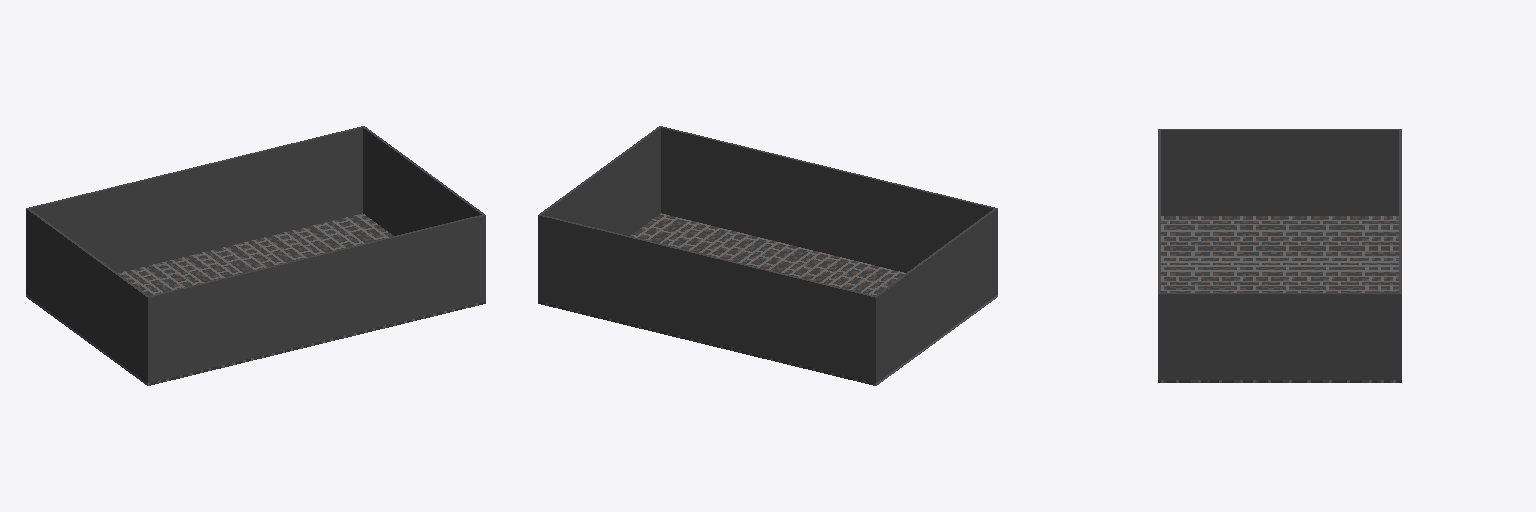
3 renders of one model, left to right at view 1: azimuth 30°, elevation 25°; view 2: azimuth 150°, elevation 25°; view 3: azimuth 270°, elevation 25°, orthographic.
Parts seen in each view (by area): view 1: object 1; view 2: object 1; view 3: object 1.
Boxes of the visible parts, x1,y1,x2,y2 form: object 1: [26, 126, 485, 385]; object 1: [538, 126, 997, 385]; object 1: [1158, 129, 1401, 382].
Bounding box in the file's own units: 12.8 × 3.2 × 8.
1 materials, 1 textured.